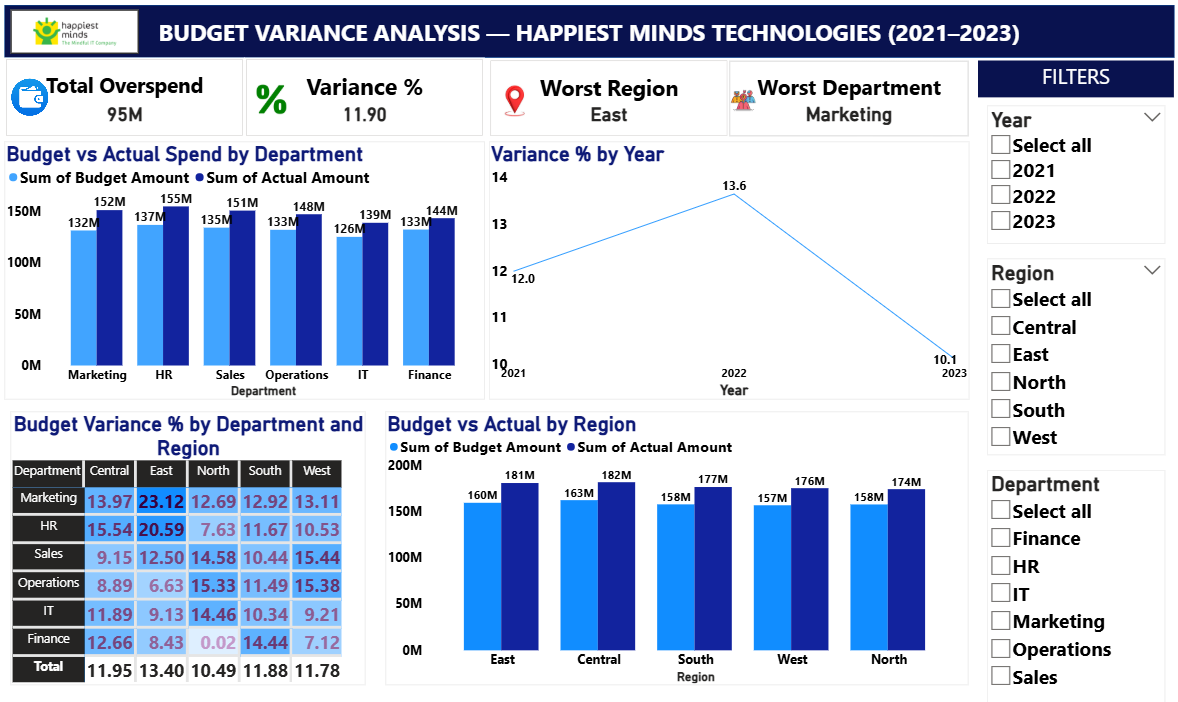

The dashboard page shown, as its layout file describes it:
{"tool":"powerbi","page":{"name":"Budget vs Actual","canvas":[4200,2500],"ordinal":0},"visuals":[{"type":"clusteredColumnChart","title":"Budget vs Actual Spend by Department","fields":{"Category":["happiest_minds_dashboard budget_actual.Department"],"Y":["Sum(happiest_minds_dashboard budget_actual.Budget Amount)","Sum(happiest_minds_dashboard budget_actual.Actual Amount)"]},"box":[15,500,1685,905],"z":0},{"type":"clusteredColumnChart","title":"Budget vs Actual by Region","fields":{"Category":["happiest_minds_dashboard budget_actual.Region"],"Y":["Sum(happiest_minds_dashboard budget_actual.Budget Amount)","Sum(happiest_minds_dashboard budget_actual.Actual Amount)"]},"box":[1355,1445,2045,960],"z":1000},{"type":"lineChart","fields":{"Category":["budget_actual.Year"],"Y":["budget_actual.Variance %"]},"box":[1715,500,1685,905],"z":2000},{"type":"slicer","fields":{"Values":["budget_actual.Year"]},"box":[3465,375,625,485],"z":3000},{"type":"pivotTable","title":"Budget Variance % by Department and Region","fields":{"Rows":["budget_actual.Department"],"Columns":["budget_actual.Region"],"Values":["budget_actual.Variance %"]},"box":[35,1445,1245,960],"z":4000},{"type":"shape","box":[15,20,4105,185],"z":5000},{"type":"cardVisual","fields":{"Data":["budget_actual.Total Overspend"]},"box":[16.7,204.2,841.7,279.2],"z":6000},{"type":"cardVisual","fields":{"Data":["budget_actual.Variance %"]},"box":[858.3,204.2,841.7,279.2],"z":7000},{"type":"cardVisual","fields":{"Data":["annual_p_l.Worst Department"]},"box":[2558.3,216.7,841.7,266.7],"z":8000},{"type":"cardVisual","fields":{"Data":["annual_p_l.Worst Region"]},"box":[1716.7,208.3,841.7,275],"z":9000},{"type":"slicer","fields":{"Values":["budget_actual.Region"]},"box":[3465,910,625,690],"z":11000},{"type":"image","box":[35,35,450,155],"z":12000},{"type":"image","box":[33.3,275,145.8,141.7],"z":13000},{"type":"image","box":[895,285,115,135],"z":13001},{"type":"image","box":[1715,295,180,125],"z":13002},{"type":"image","box":[2560,295,100,120],"z":13003},{"type":"textbox","box":[3433.3,216.7,687.5,129.2],"z":13005},{"type":"slicer","fields":{"Values":["budget_actual.Department"]},"box":[3465,1650,625,850],"z":13006}]}

Visuals, with their boxes in screenshot pixels (x1, y1, x2, y2), scaled from the page's 4200x2500 canvas onto the 1178x702 screenshot:
"Budget vs Actual Spend by Department" clusteredColumnChart: (x1=4, y1=140, x2=477, y2=395)
"Budget vs Actual by Region" clusteredColumnChart: (x1=380, y1=406, x2=954, y2=675)
lineChart - budget_actual.Year x budget_actual.Variance %: (x1=481, y1=140, x2=954, y2=395)
slicer - budget_actual.Year: (x1=972, y1=105, x2=1147, y2=241)
"Budget Variance % by Department and Region" pivotTable: (x1=10, y1=406, x2=359, y2=675)
shape: (x1=4, y1=6, x2=1156, y2=58)
cardVisual - budget_actual.Total Overspend: (x1=5, y1=57, x2=241, y2=136)
cardVisual - budget_actual.Variance %: (x1=241, y1=57, x2=477, y2=136)
cardVisual - annual_p_l.Worst Department: (x1=718, y1=61, x2=954, y2=136)
cardVisual - annual_p_l.Worst Region: (x1=481, y1=58, x2=718, y2=136)
slicer - budget_actual.Region: (x1=972, y1=256, x2=1147, y2=449)
image: (x1=10, y1=10, x2=136, y2=53)
image: (x1=9, y1=77, x2=50, y2=117)
image: (x1=251, y1=80, x2=283, y2=118)
image: (x1=481, y1=83, x2=532, y2=118)
image: (x1=718, y1=83, x2=746, y2=117)
textbox: (x1=963, y1=61, x2=1156, y2=97)
slicer - budget_actual.Department: (x1=972, y1=463, x2=1147, y2=701)
